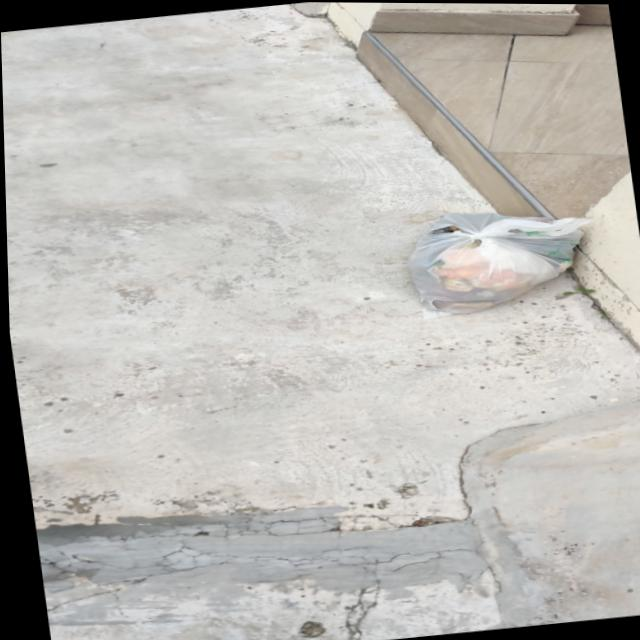Organic Waste -White Bags-: (396, 209, 582, 319)
